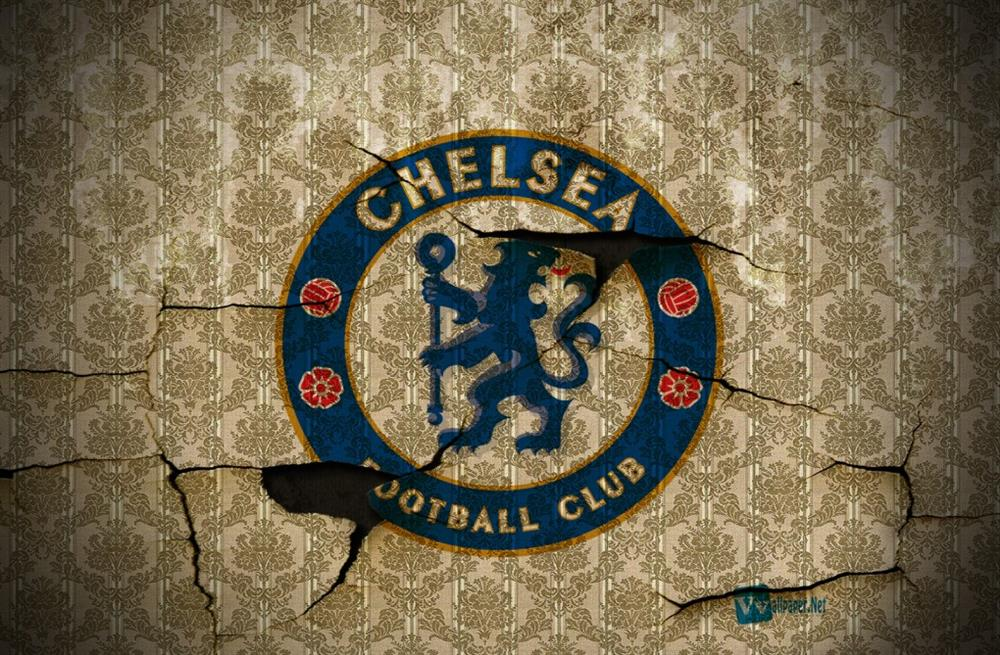chelsea: (293, 131, 717, 555)
